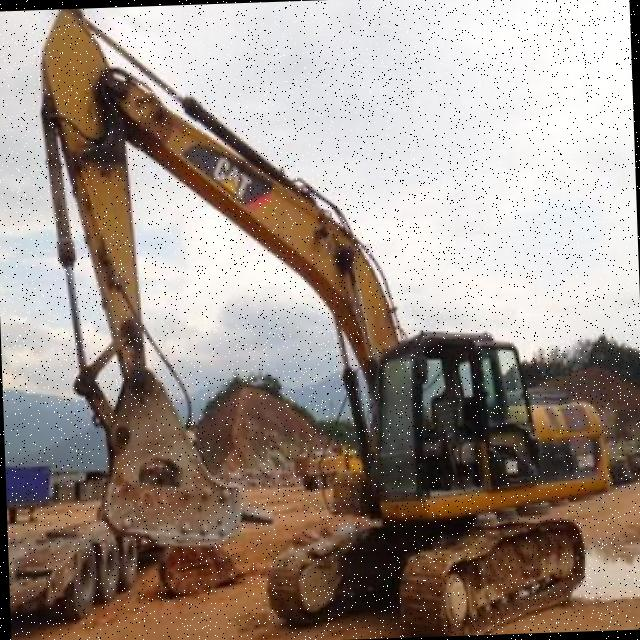Excavator: (22, 0, 613, 640)
